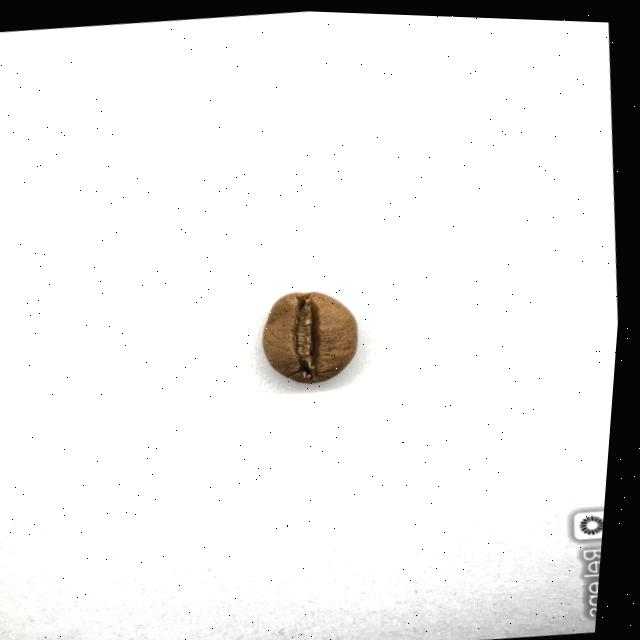Good bean: (264, 284, 366, 384)
